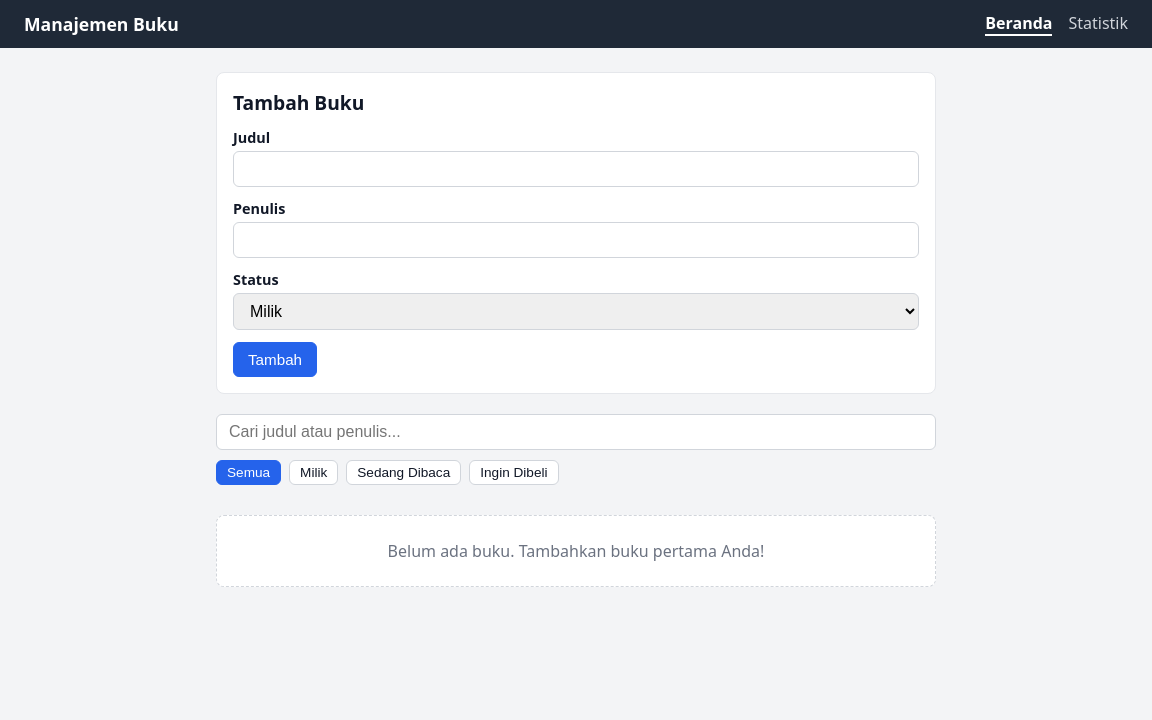
Aplikasi Manajemen Buku (integrasi) › menambah buku dan menyimpannya ke localStorage
Expected: the text "Belum ada buku. Tambahkan buku pertama Anda!" is shown, [216,515,936,587]
Step 1. Type "Bumi" into the field labelled "Judul" → point(576, 169), box [233,151,919,187]
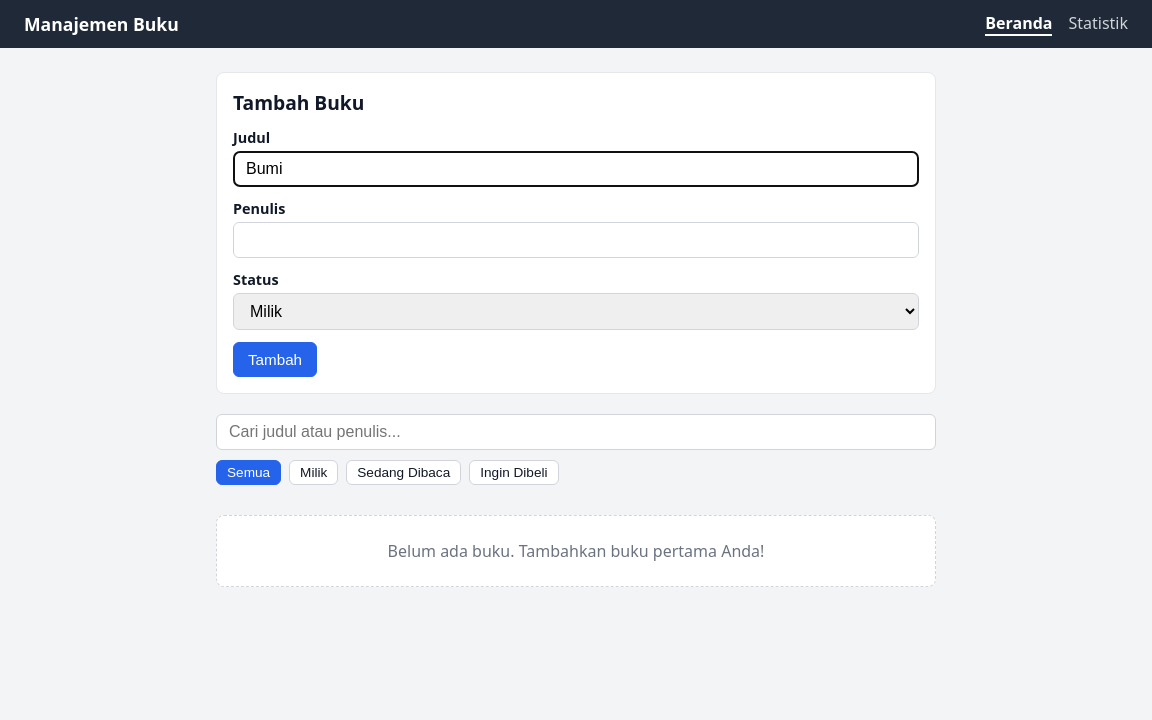
Step 2. Type "Tere Liye" into the field labelled "Penulis" → point(576, 240), box [233,222,919,258]
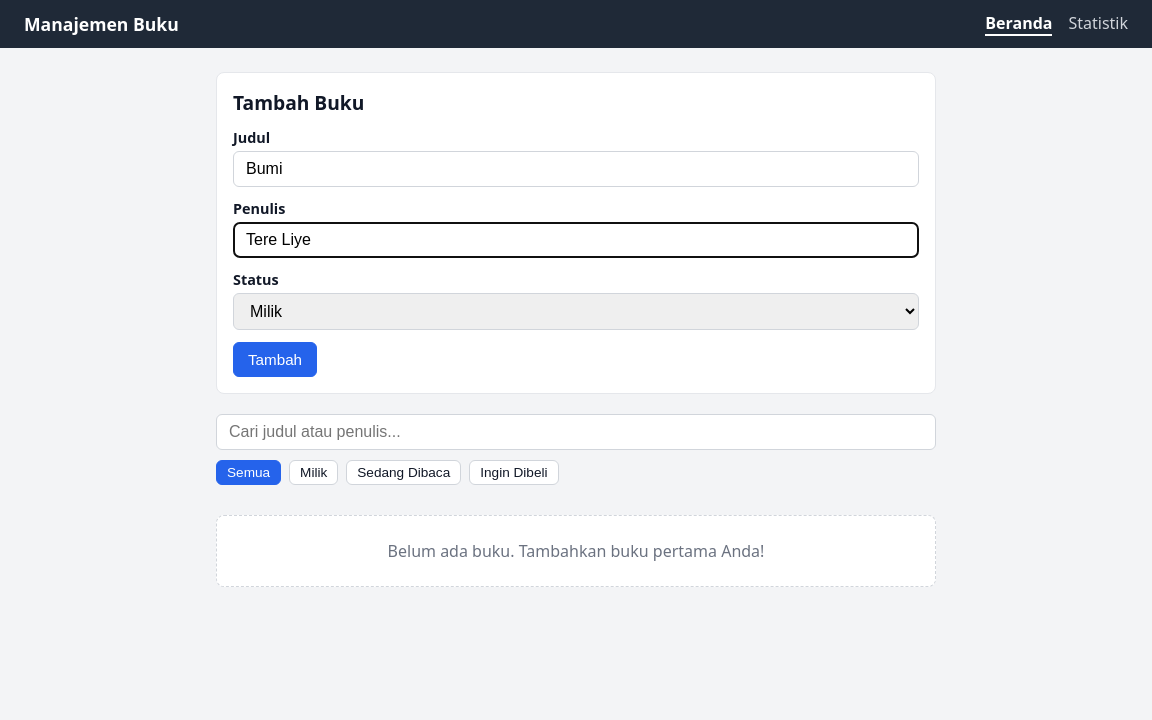
Step 3. Select "Sedang Dibaca" in the dropdown labelled "Status" → point(576, 312), box [233,293,919,330]
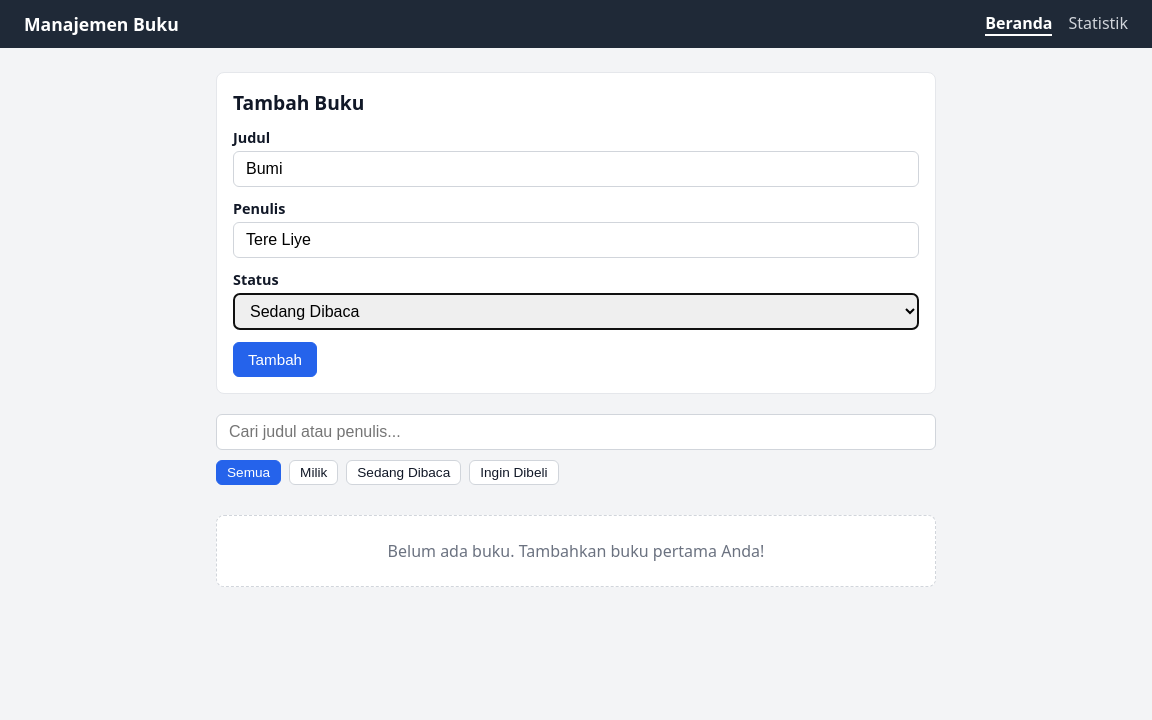
Step 4. Click the button "Tambah" → point(275, 360), box [233,342,317,377]
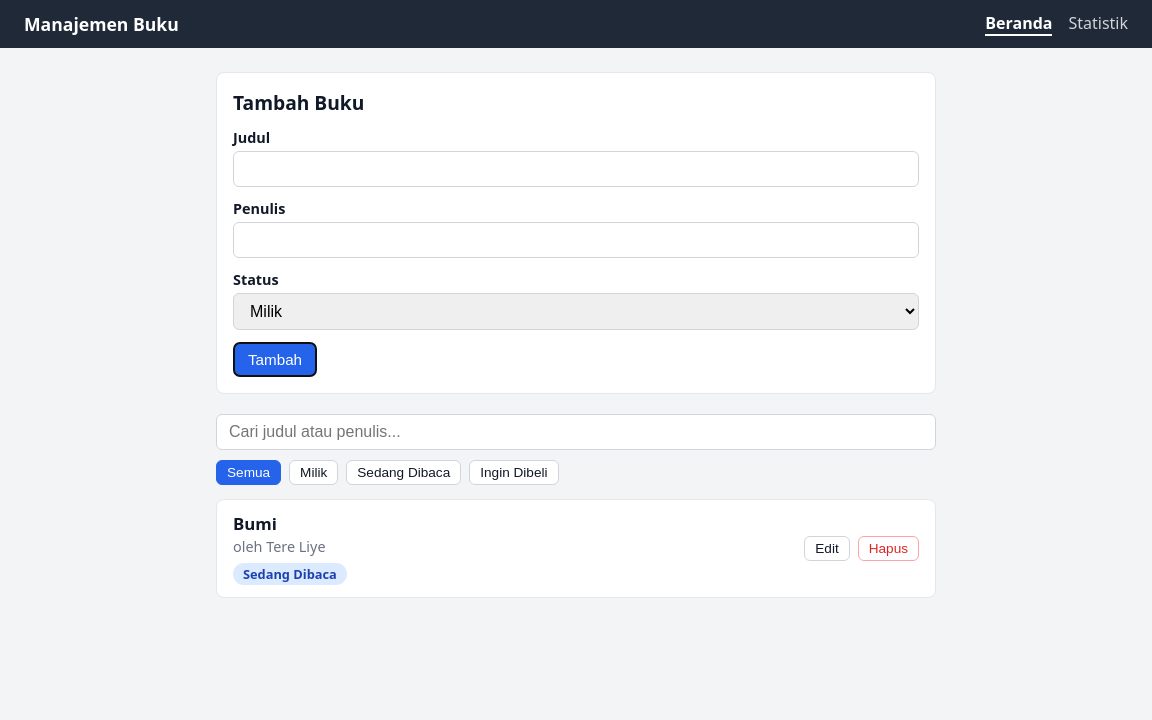
Now the heading "Bumi" is shown, box [233,512,277,535]
